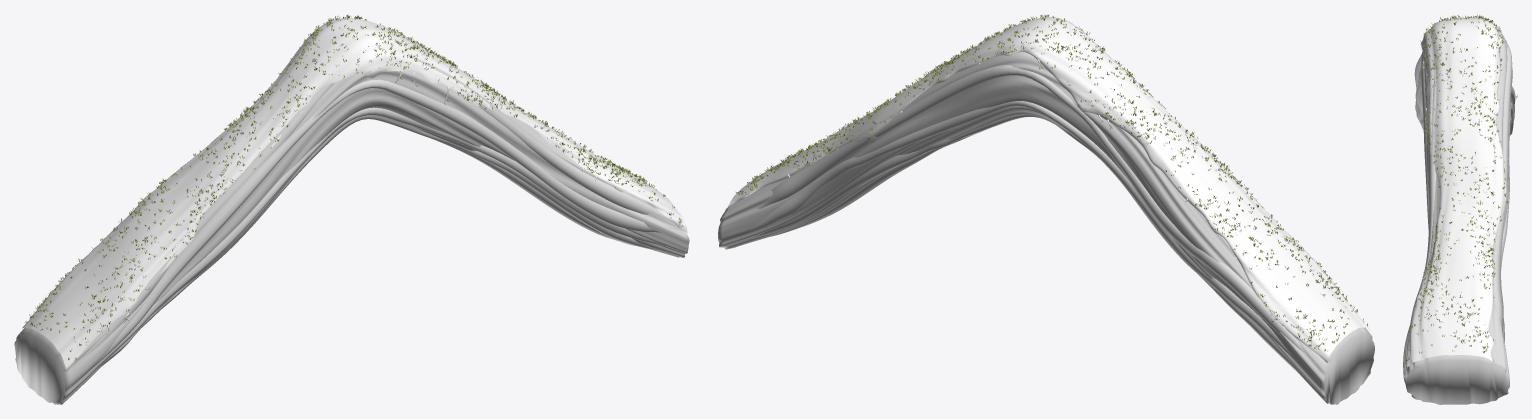
File: moss_root_arch.glb
The picture shows the model from 3 angles, left to right: view 1: azimuth 30°, elevation 25°; view 2: azimuth 150°, elevation 25°; view 3: azimuth 270°, elevation 25°; orthographic projection. The views are drawn at different scales.
Parts seen in each view (by area): view 1: SM_Valley_MossRootArch; view 2: SM_Valley_MossRootArch; view 3: SM_Valley_MossRootArch.
Part boxes in pixels (<box>): SM_Valley_MossRootArch: <box>14,14,689,404</box>; SM_Valley_MossRootArch: <box>718,14,1374,404</box>; SM_Valley_MossRootArch: <box>1403,14,1517,404</box>.
Size of the model in its own units: 10.57 by 4.94 by 1.97.
